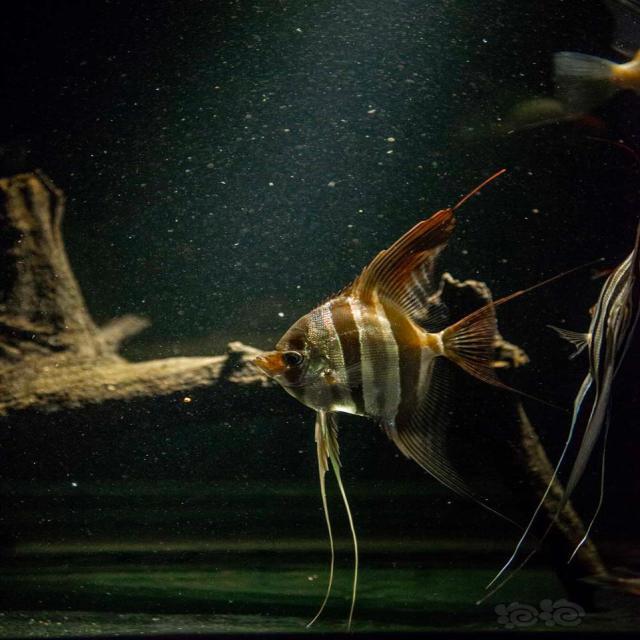AngelFish: (262, 166, 566, 623)
